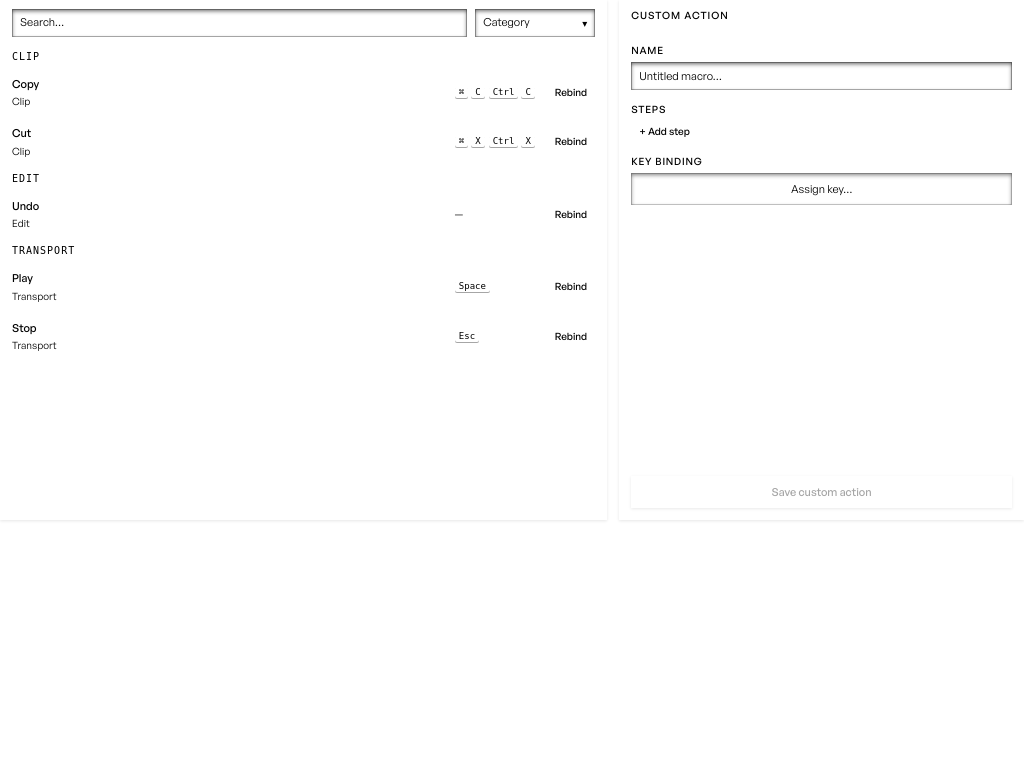
Shortcuts — rebind flow › cancels capture when Cancel button is clicked
Click the button "Rebind" in the row of "Copy". click: {"x": 571, "y": 92}
box: [547,80,595,104]
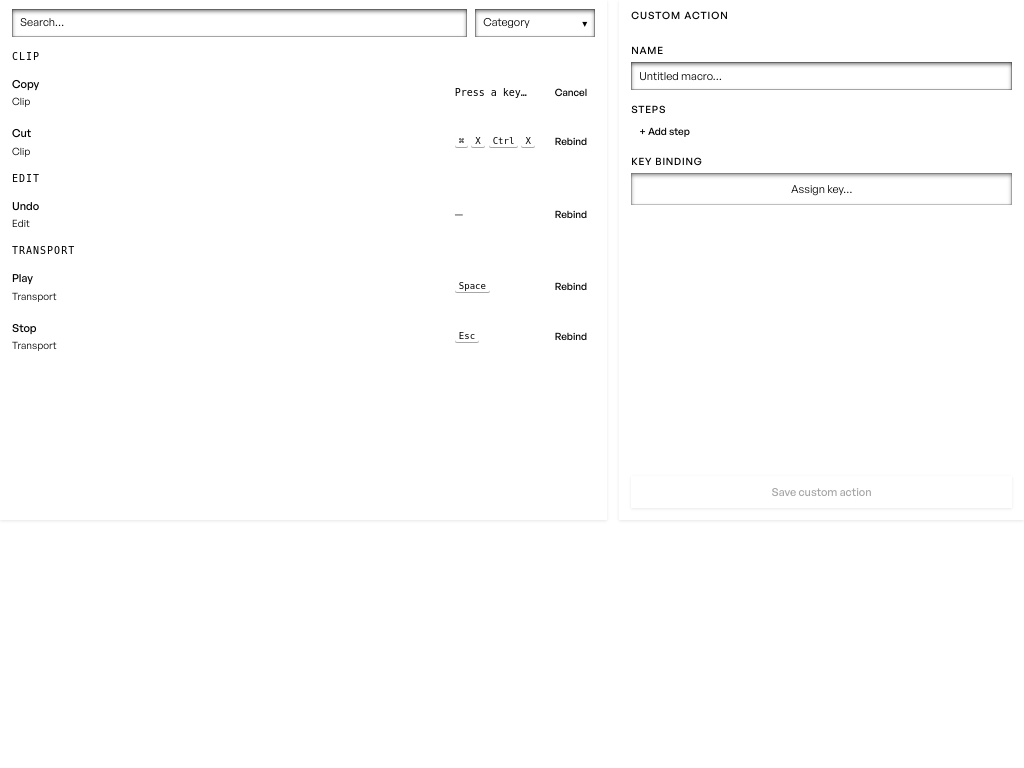
Click the button "Cancel". click: {"x": 571, "y": 92}
box: [547,80,595,104]
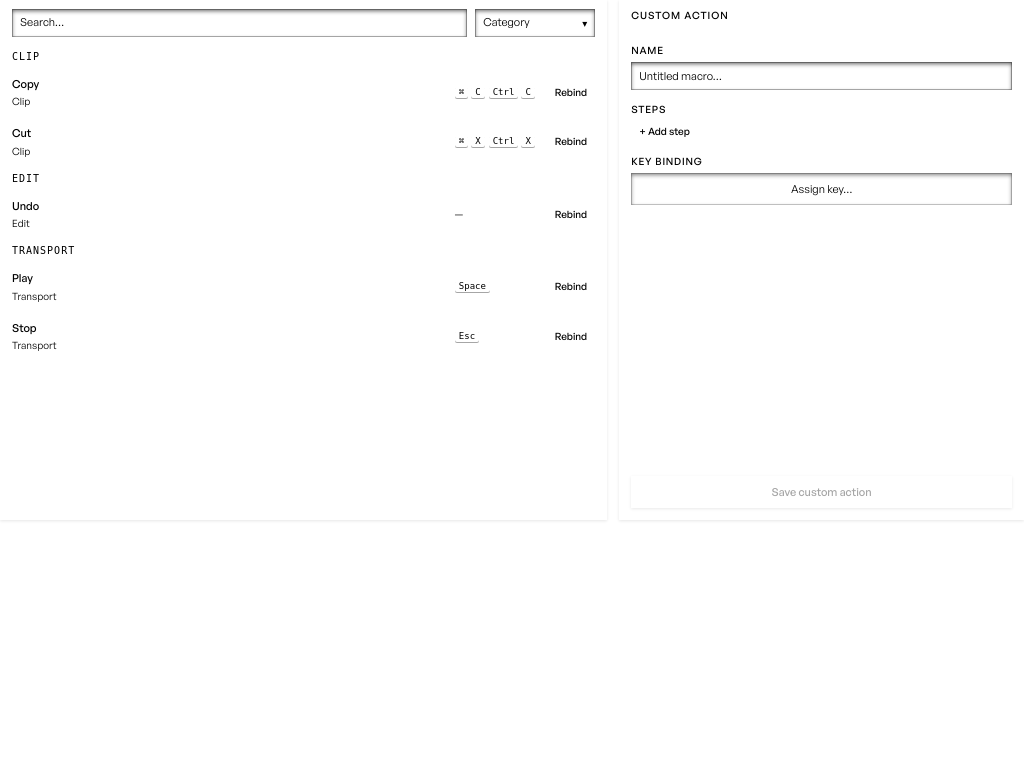
Now the text "Press a key…" is gone
